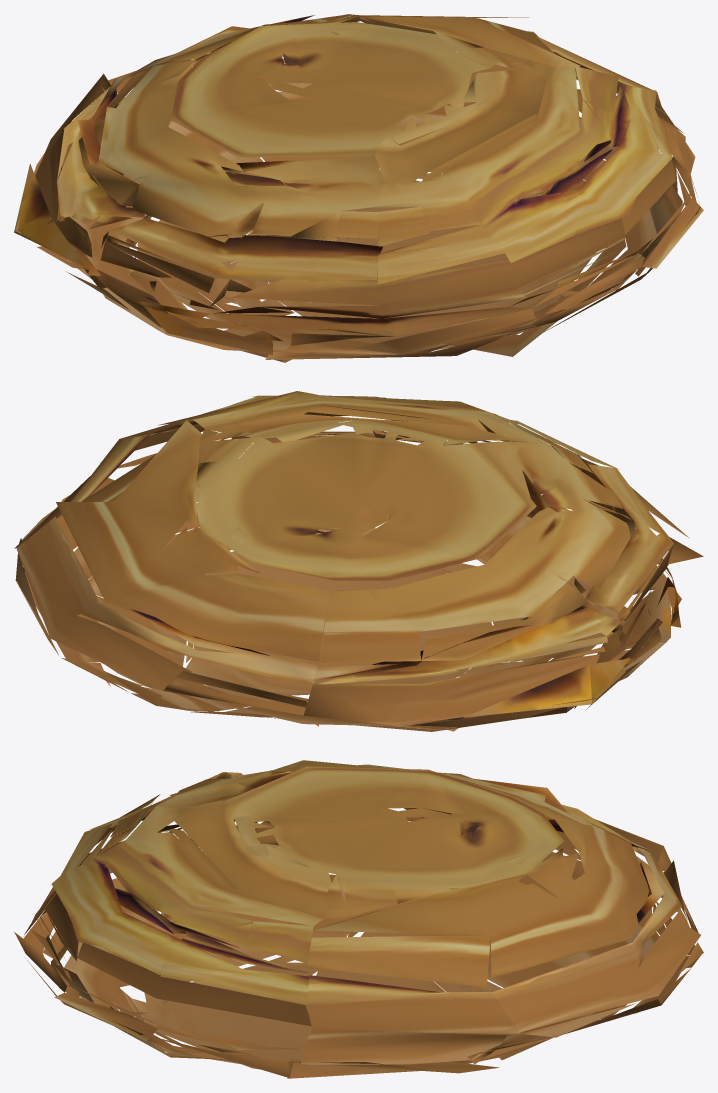
Rendered from desert_boulder_flat_lod1.glb.
The picture shows the model from 3 angles, top to bottom: view 1: azimuth 30°, elevation 25°; view 2: azimuth 150°, elevation 25°; view 3: azimuth 270°, elevation 25°; orthographic projection.
Parts seen in each view (by area): view 1: desert_boulder_flat.001; view 2: desert_boulder_flat.001; view 3: desert_boulder_flat.001.
Part boxes in pixels (x1,y1,x2,y2): desert_boulder_flat.001: (14, 14, 703, 362); desert_boulder_flat.001: (14, 391, 703, 731); desert_boulder_flat.001: (14, 760, 703, 1078).
Bounding box in the file's own units: 1.87 × 0.5812 × 1.92.
Materials: 1 (1 with a texture image).
